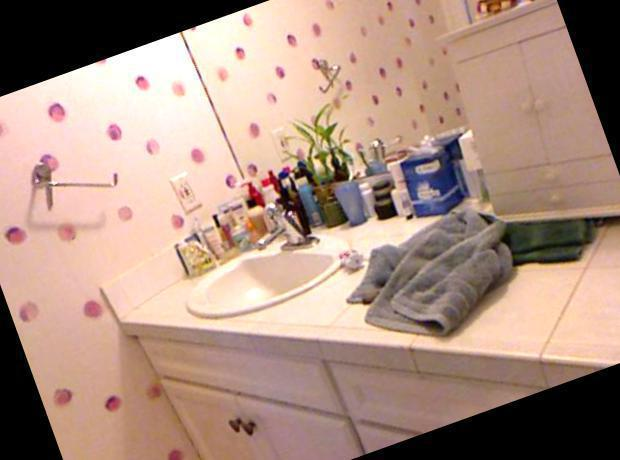Lavamanos: (162, 178, 366, 345)
